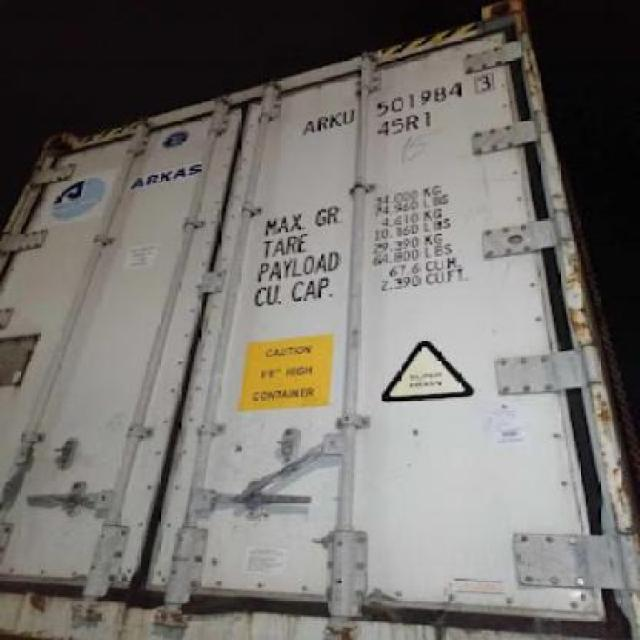ISO: (380, 110, 434, 142)
container_number: (303, 69, 494, 136)
